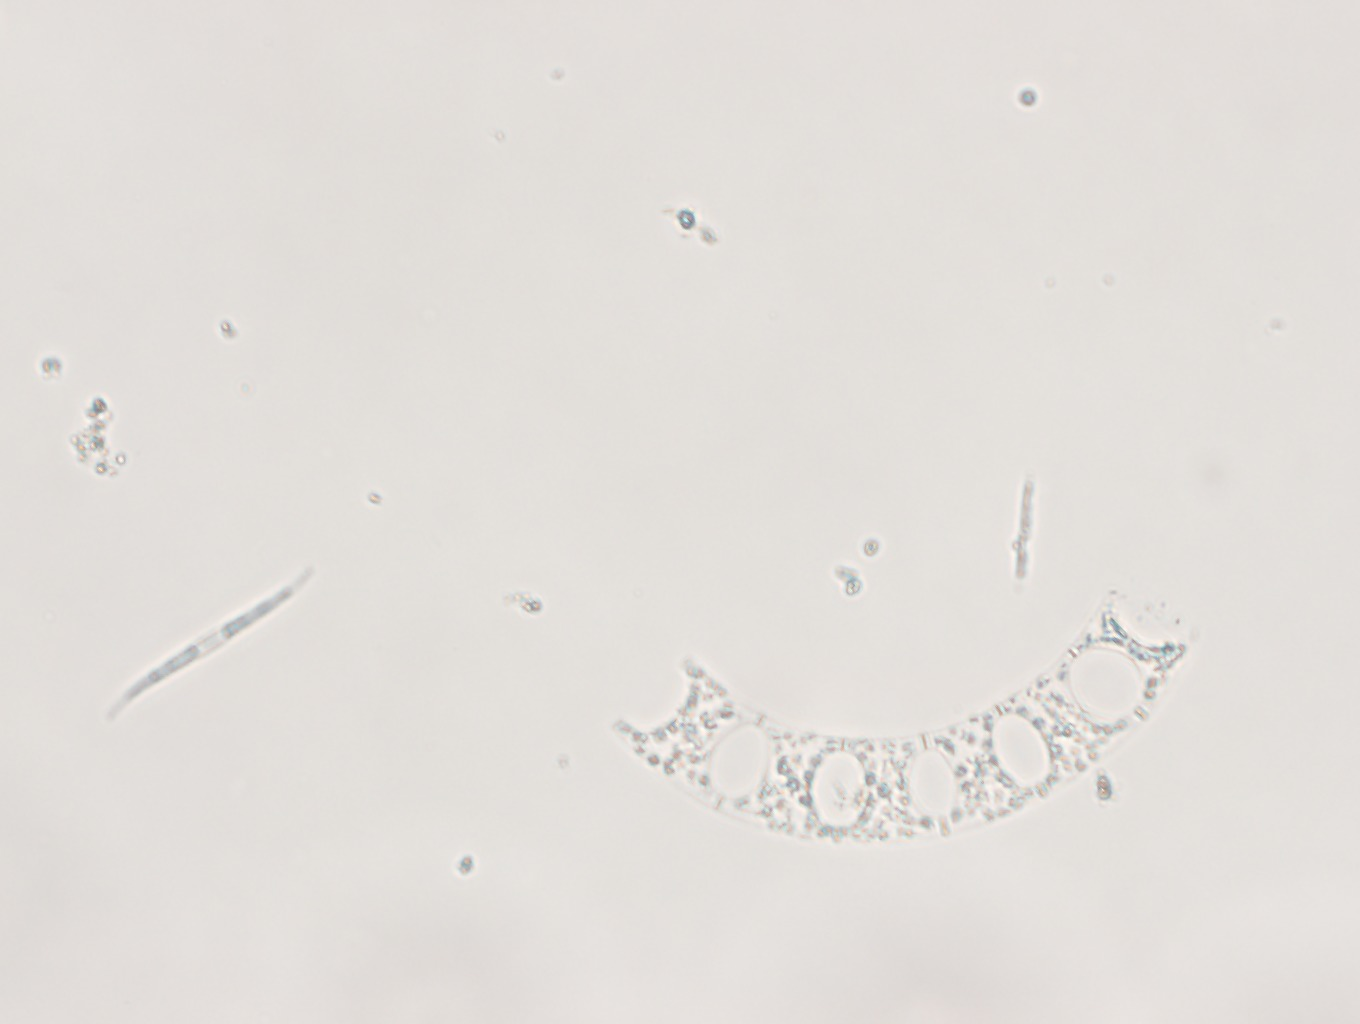chaetoceros: (613, 591, 1186, 845)
pleurosigma pelagicum: (96, 563, 313, 719)
